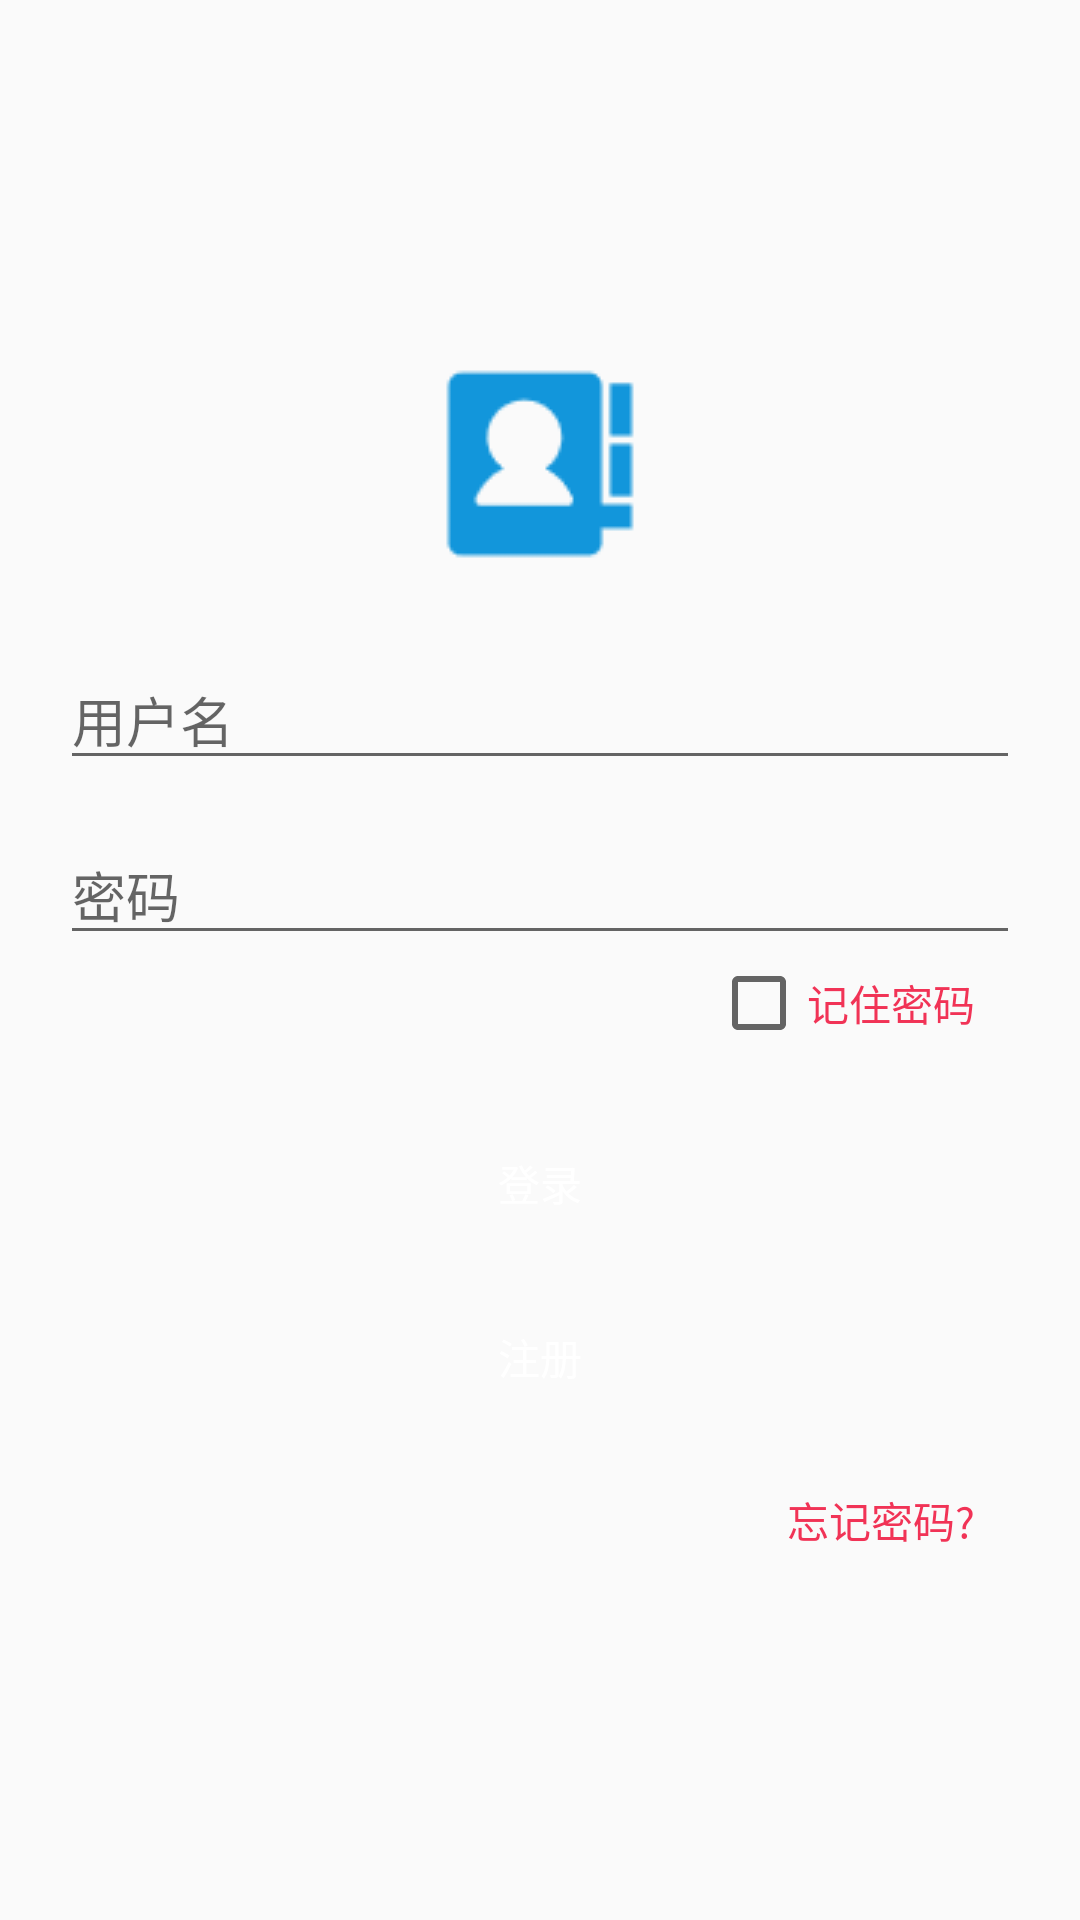

Where icons sit on this 1080px x 1920px app screen, as (left=x1, top=y1, right=x2, bottom=y2):
contact: (left=446, top=370, right=634, bottom=558)
